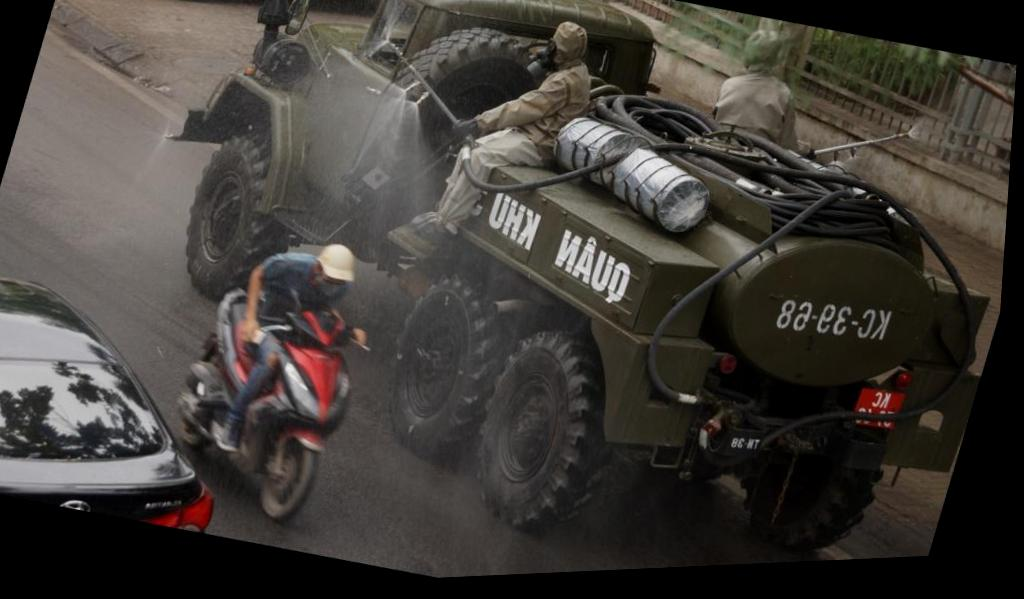License_Plate: (848, 384, 906, 433)
